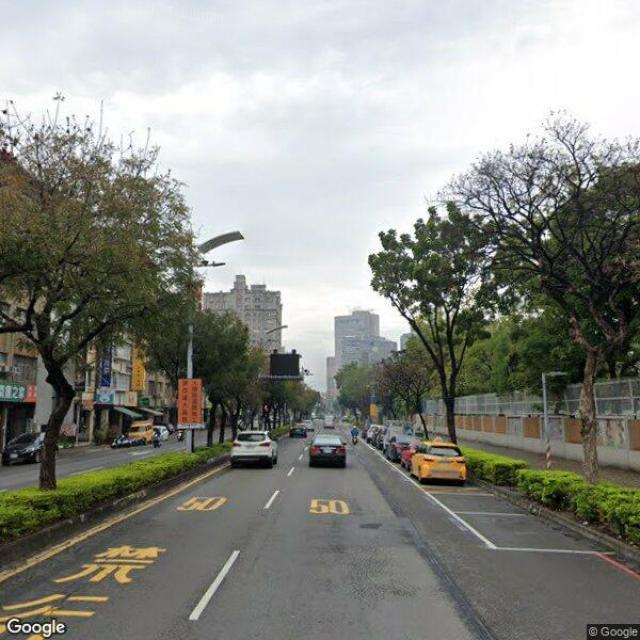Legalparking: (367, 421, 466, 484)
